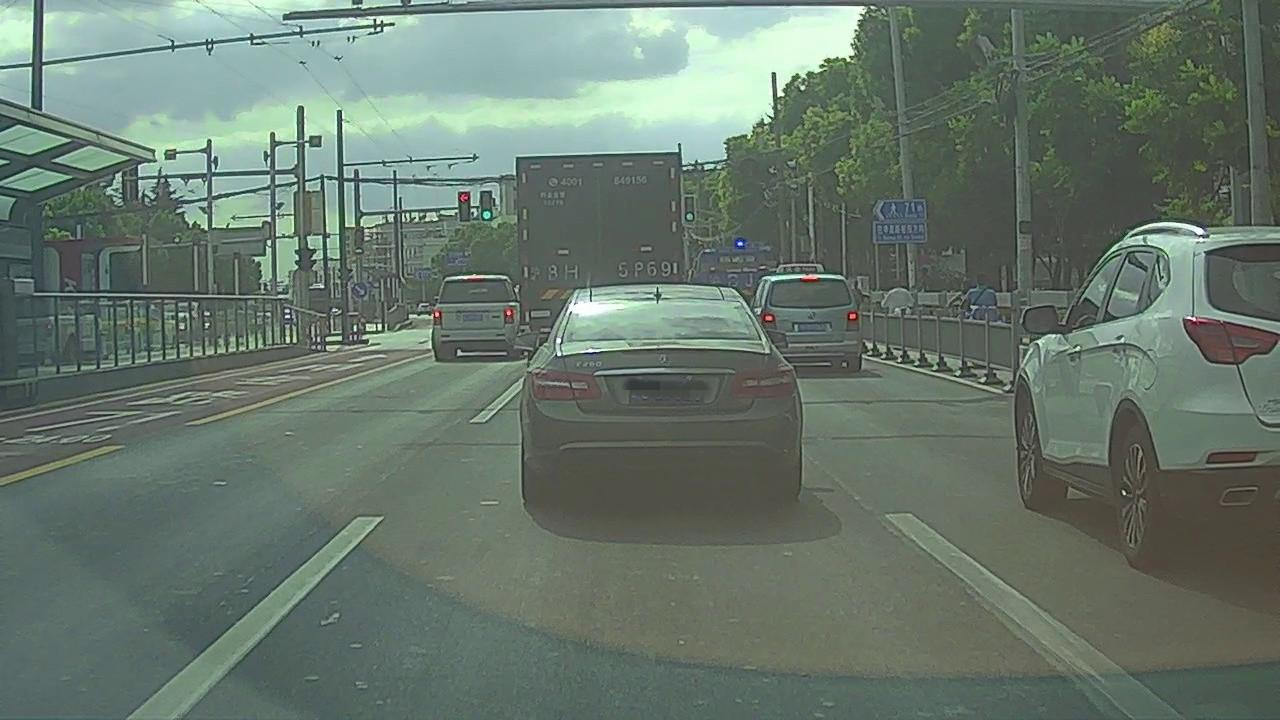traffic_light: (479, 189, 493, 221), (459, 193, 470, 221), (685, 195, 695, 223)
